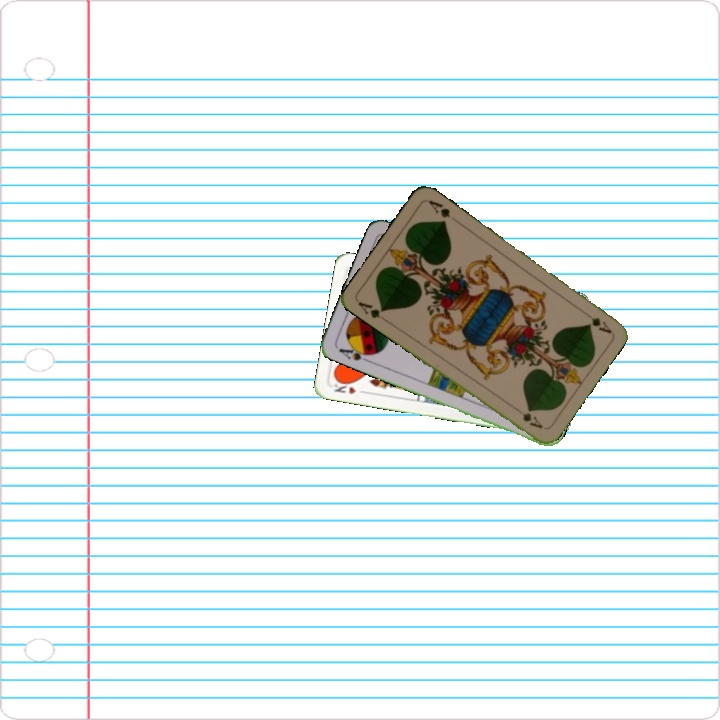GA: (578, 306, 614, 336), (354, 297, 391, 325)
HK: (330, 376, 369, 397)
SA: (335, 341, 375, 365)
